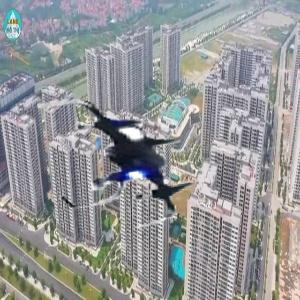drone: (47, 83, 198, 234)
